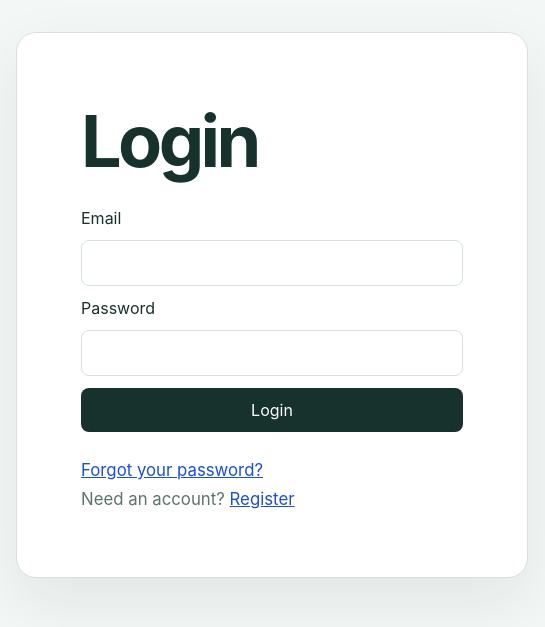
Test: Identity pages › shows the safe login error for status 401
Type "person@example.com" into the field labelled "Email".
click(272, 263); type("person@example.com")  # box [81, 240, 463, 286]
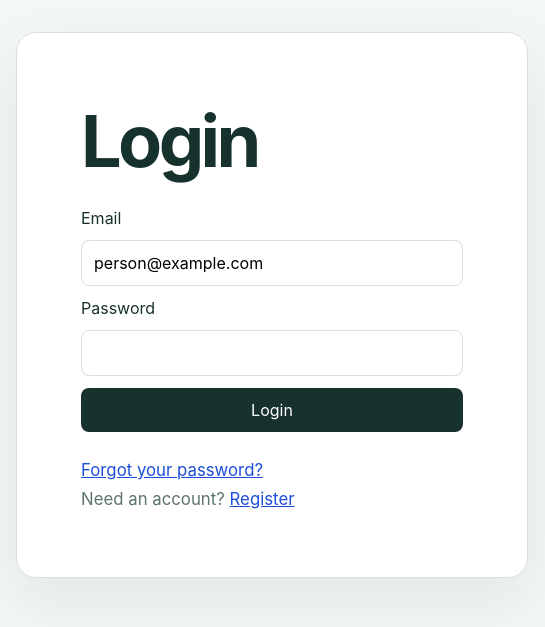
Type "incorrect-password" into the password field labelled "Password".
click(272, 353); type("incorrect-password")  # box [81, 330, 463, 376]
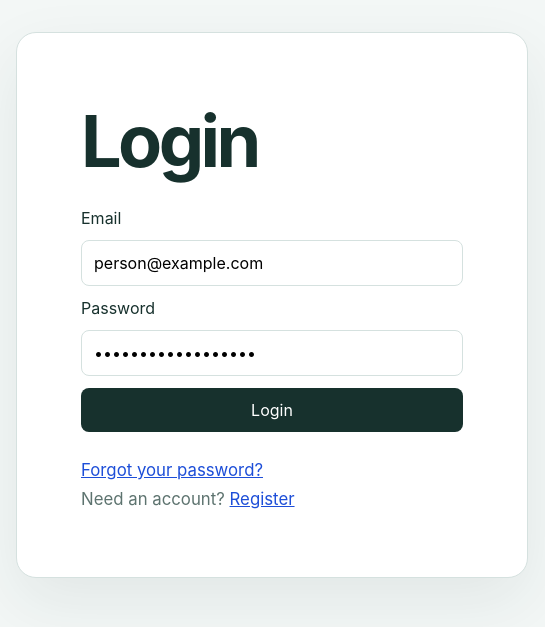
Click the button "Login".
click(272, 410)  # box [81, 388, 463, 432]
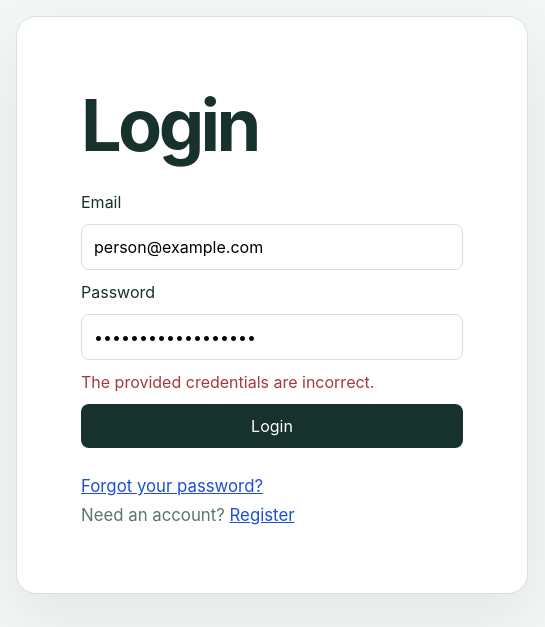
Result: the text "The provided credentials are incorrect." is shown at [81, 372, 374, 392]
